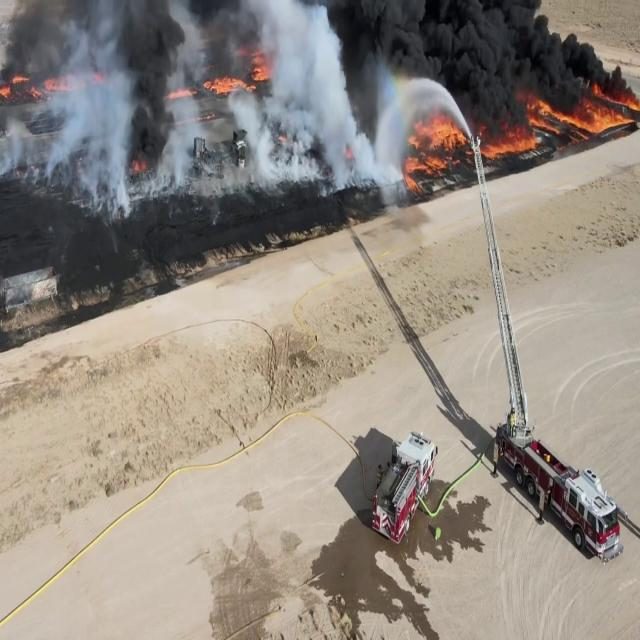Fire: (482, 88, 638, 150)
Smoke: (0, 0, 622, 158), (3, 0, 623, 108)
